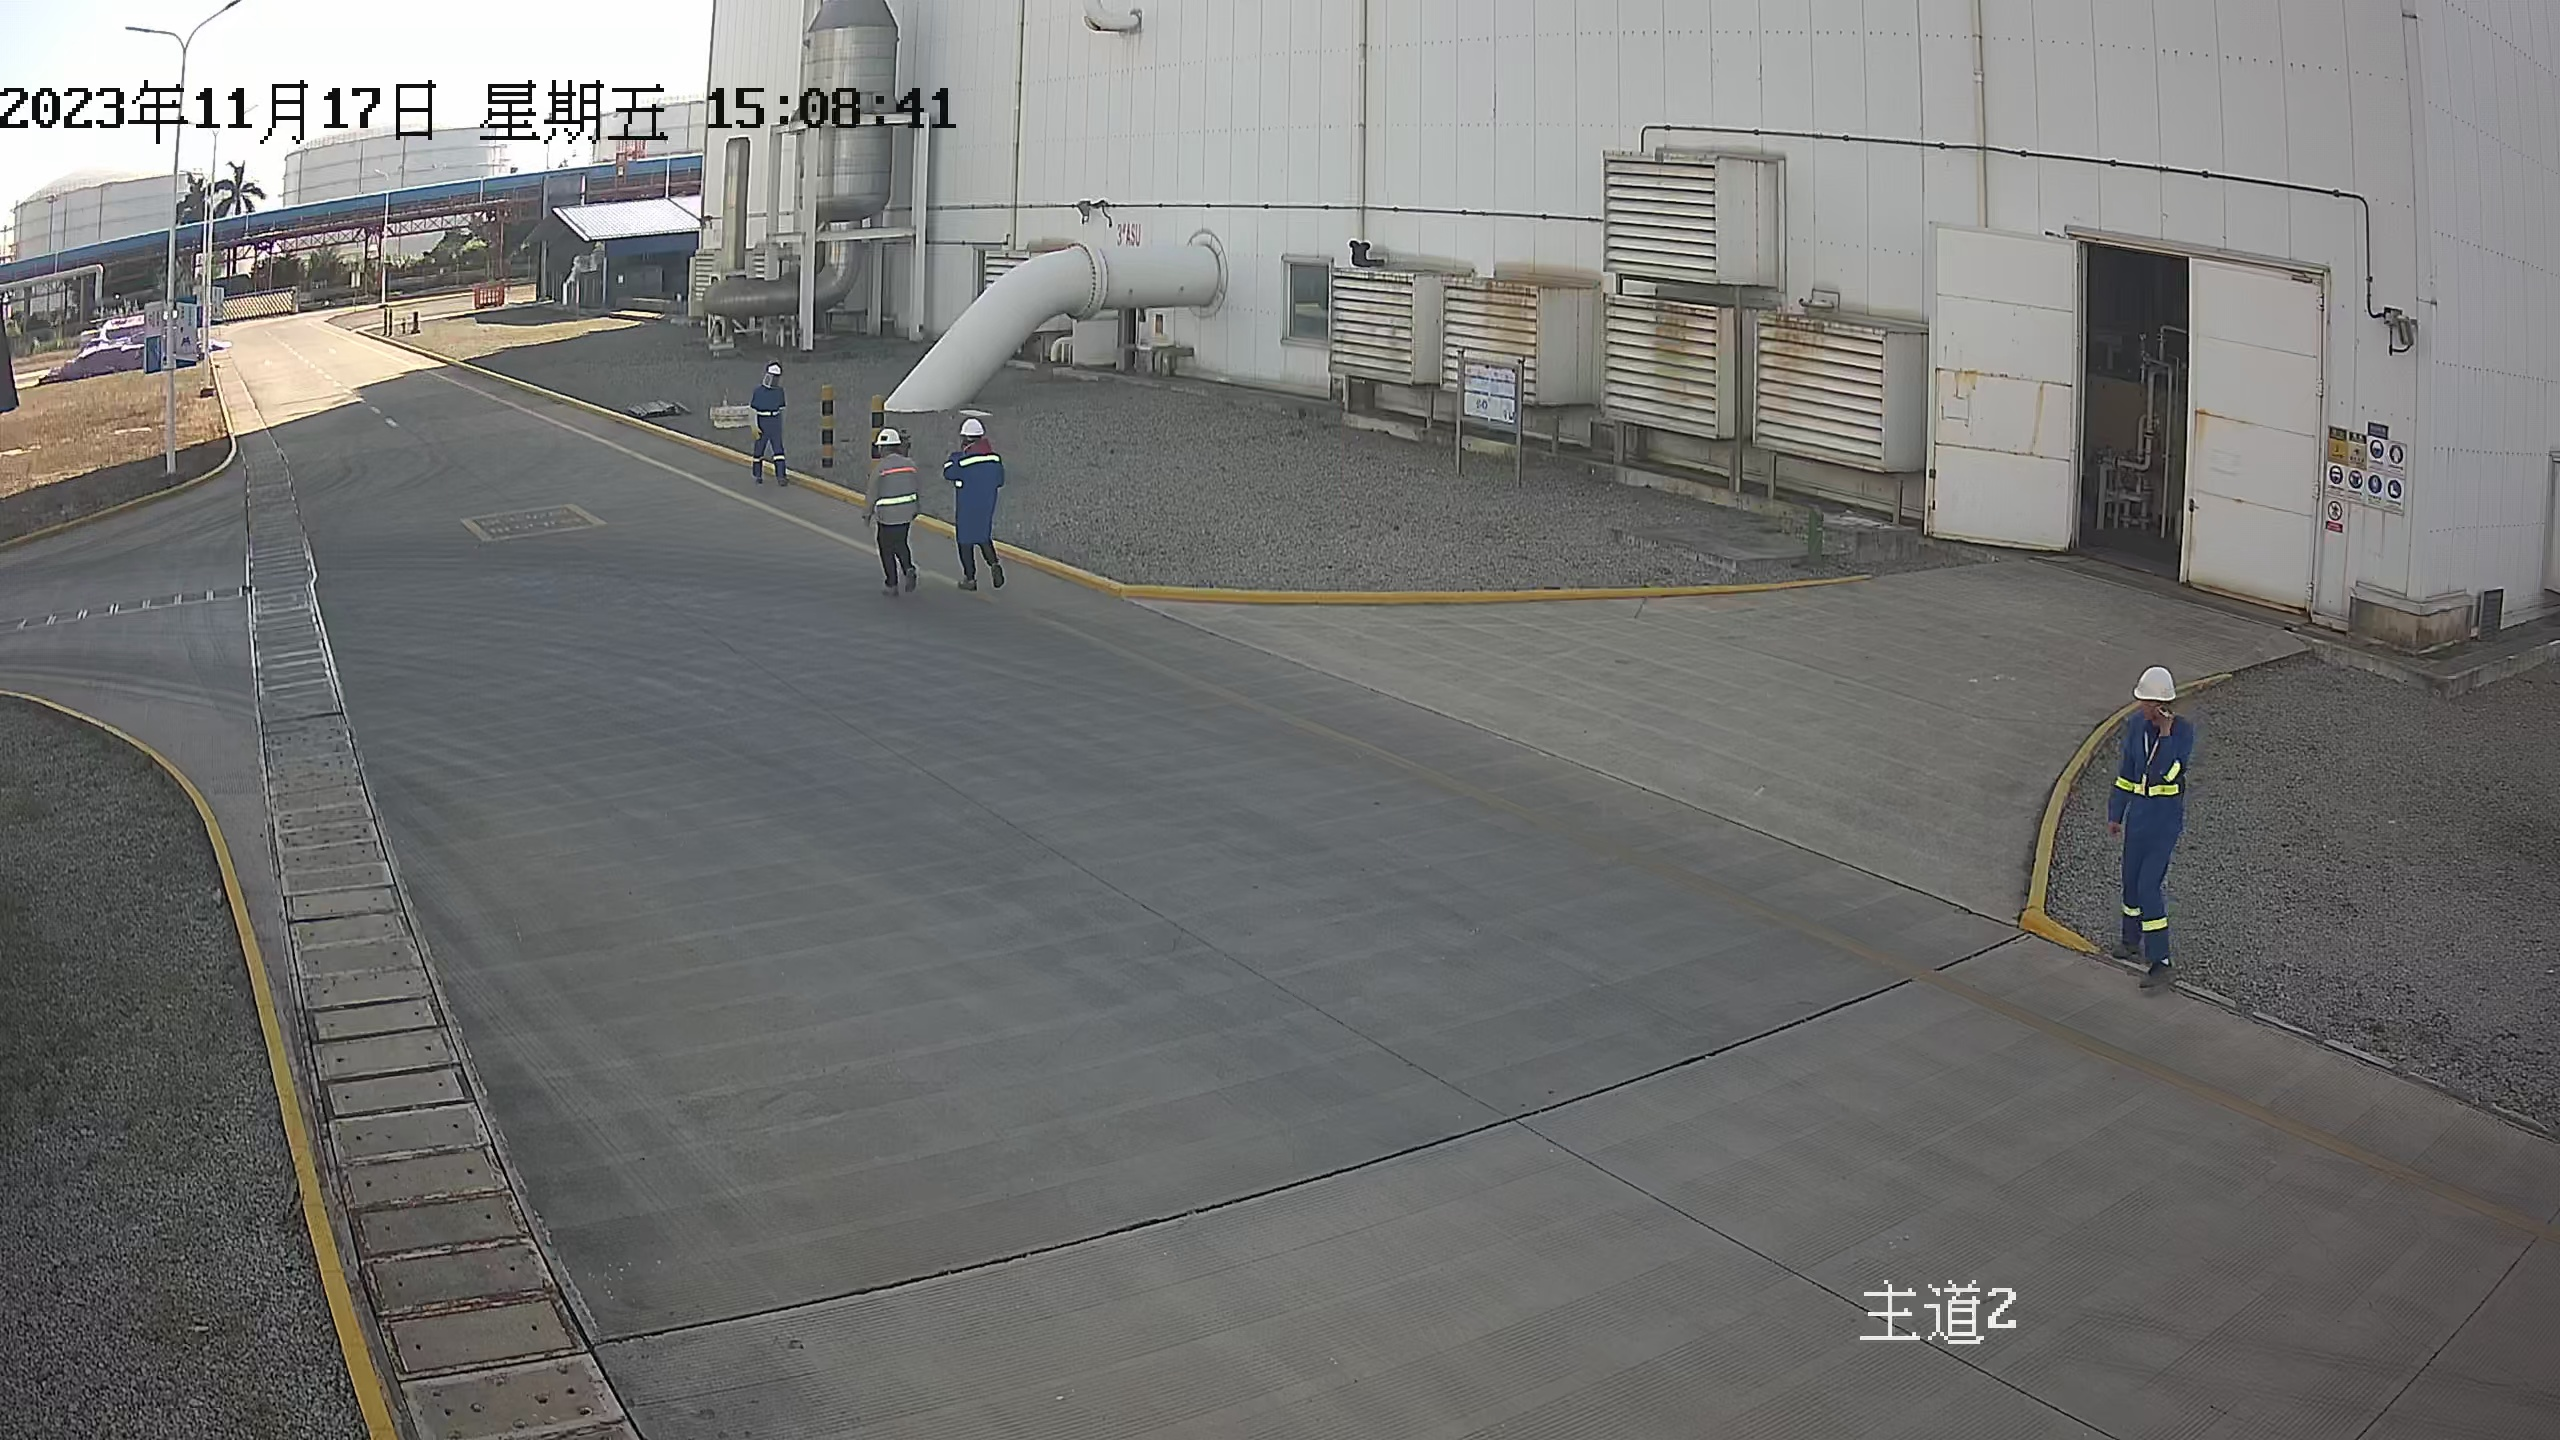Body_without_uniform: (935, 440, 1030, 595), (850, 448, 935, 599)
Head_with_Helmet: (2116, 655, 2193, 729), (862, 419, 922, 462), (948, 408, 997, 449), (749, 356, 792, 391)
Uniform: (2085, 707, 2240, 994), (735, 376, 803, 492)
